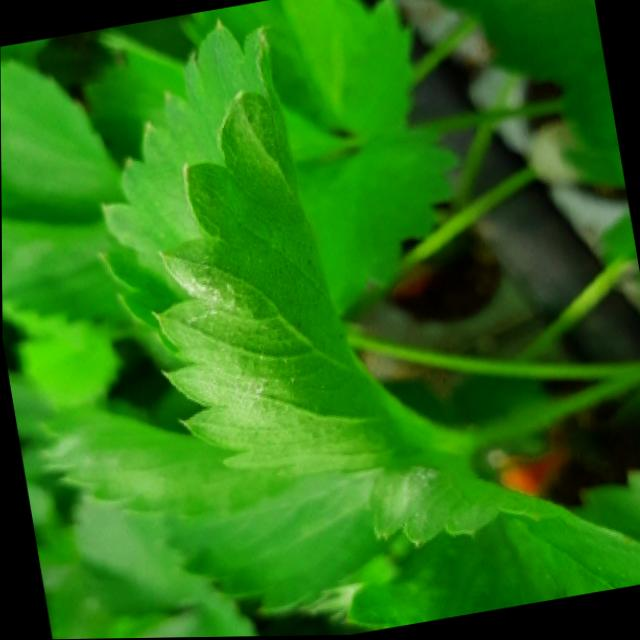Powdery Mildew Leaf: (96, 18, 435, 479), (346, 458, 640, 631)
